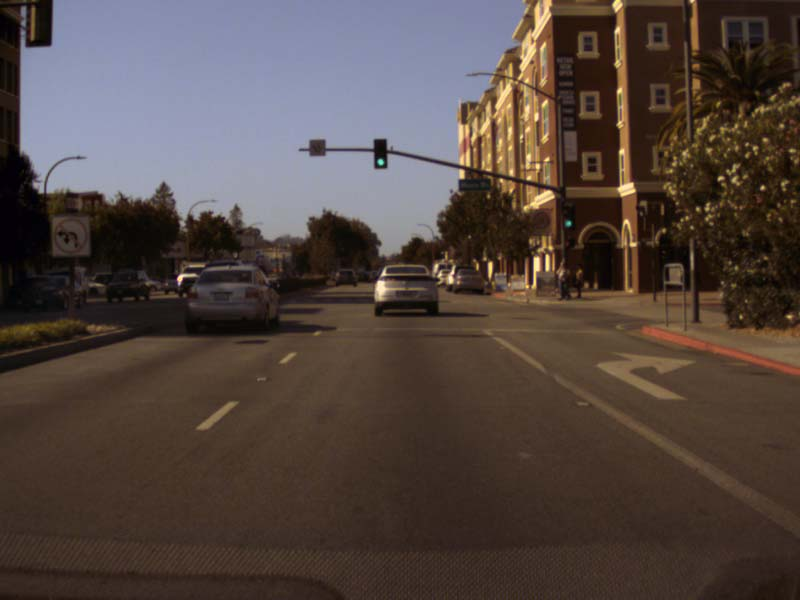Green: (373, 139, 386, 169), (562, 203, 574, 229)
